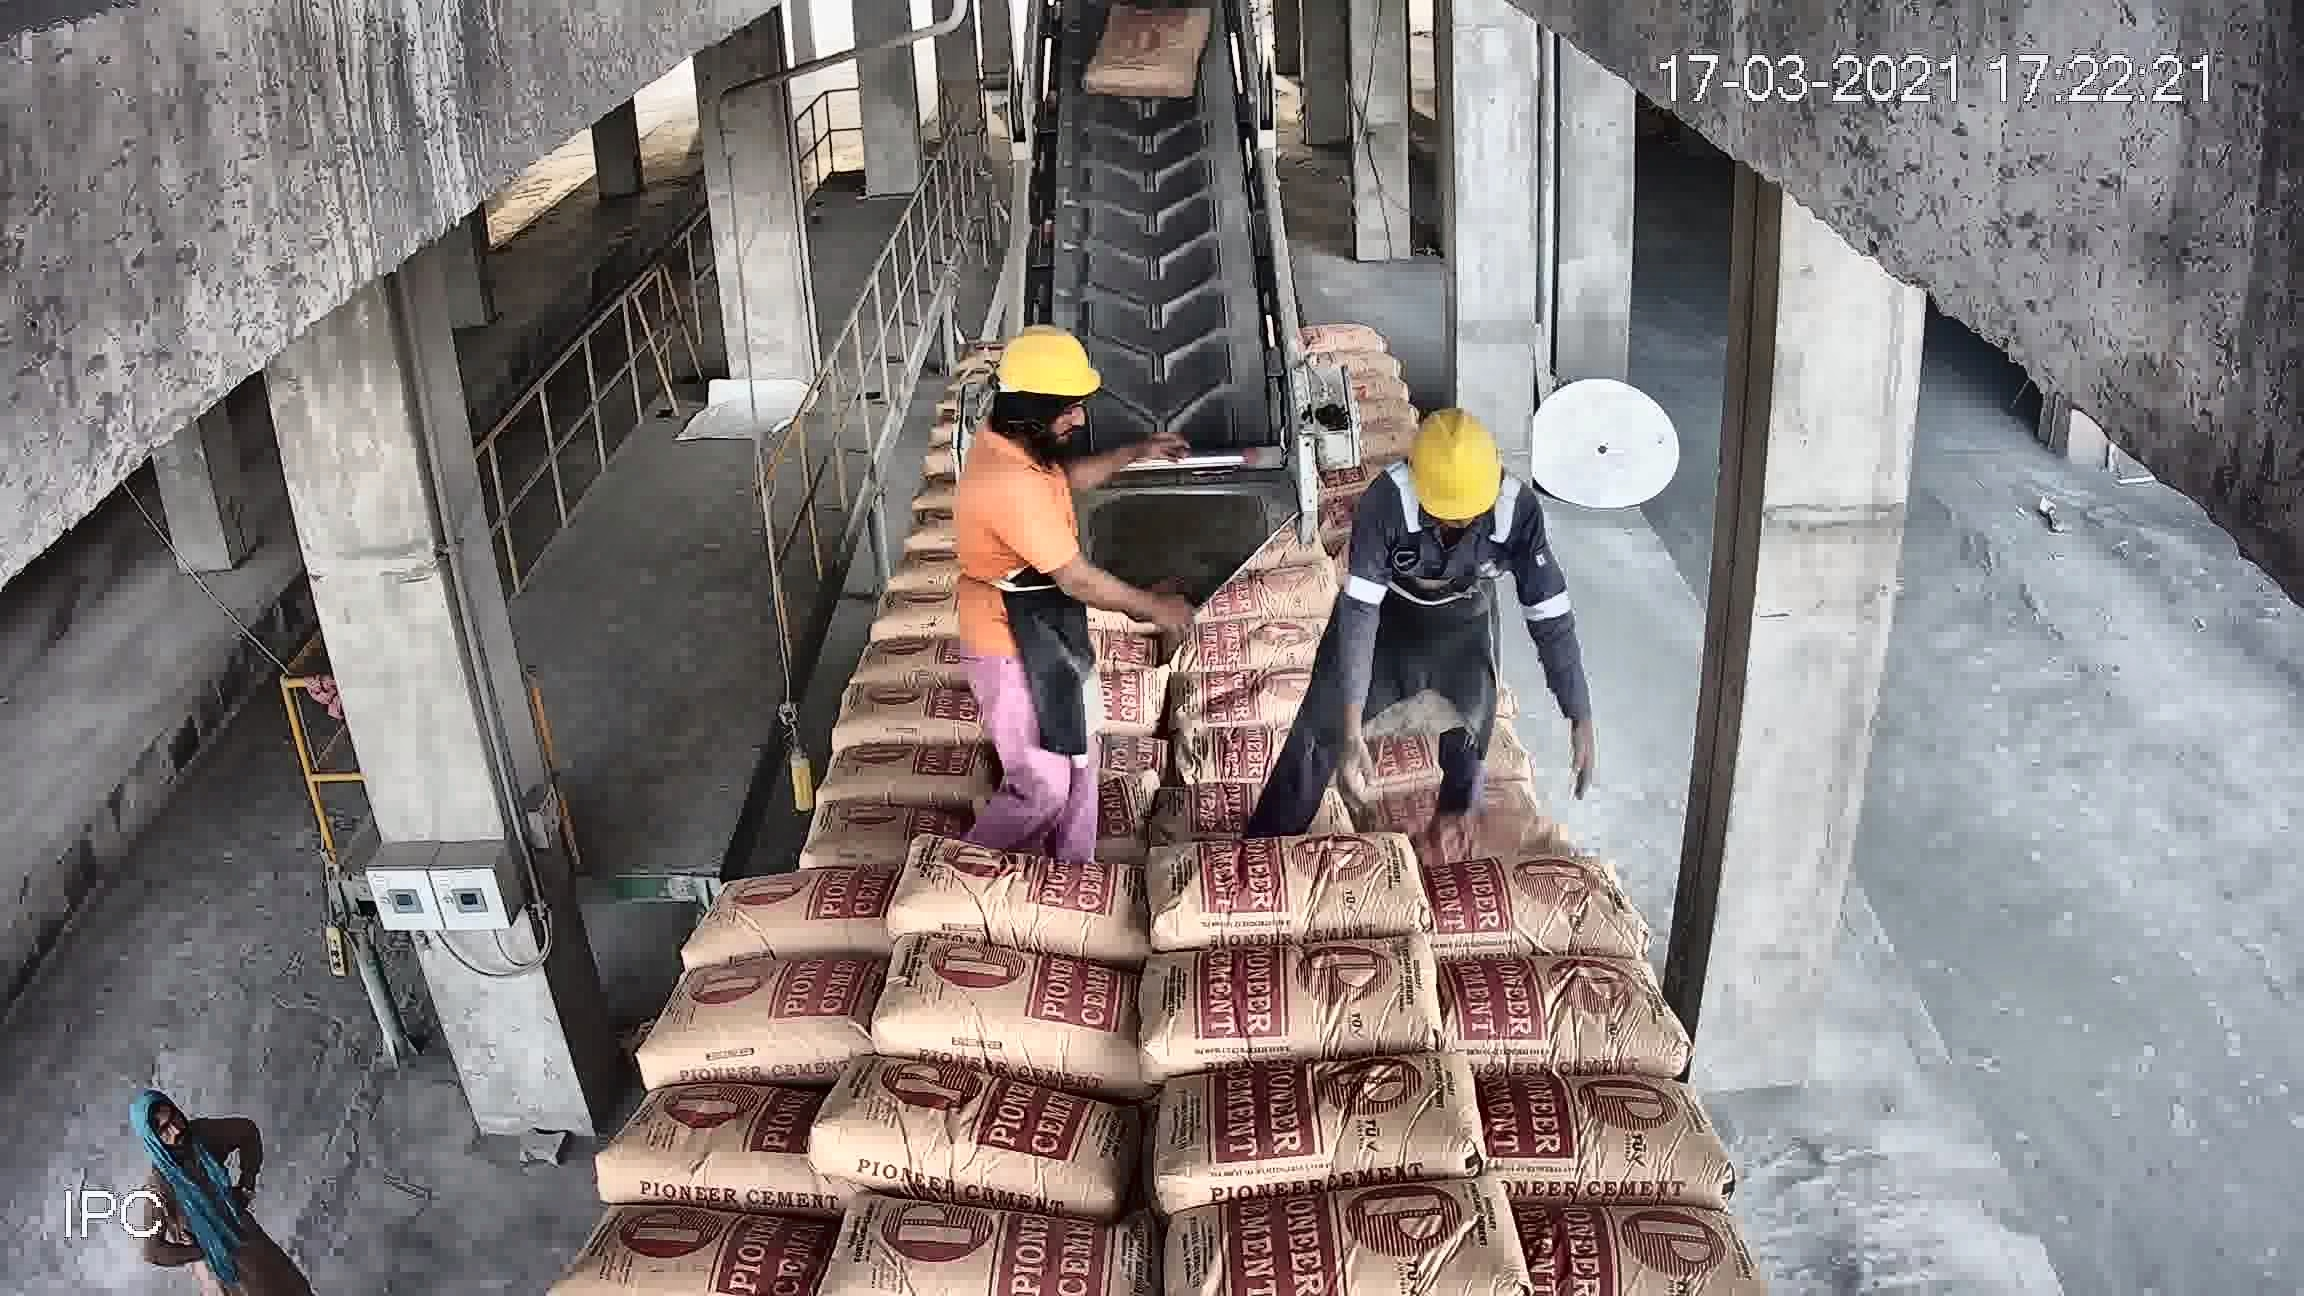bag: (1090, 305, 1230, 460), (1093, 19, 1198, 74)
bag_h: (1158, 1054, 1483, 1214), (1136, 921, 1465, 1063), (1165, 1166, 1513, 1296), (1143, 821, 1426, 953), (780, 1199, 1149, 1291), (1419, 942, 1671, 1074), (1141, 714, 1394, 840), (1489, 1070, 1723, 1206), (877, 946, 1144, 1057), (805, 1097, 1147, 1182), (597, 1082, 821, 1206), (1529, 1176, 1752, 1296), (642, 961, 858, 1084), (907, 847, 1144, 946), (902, 767, 1158, 858), (1130, 658, 1380, 747), (582, 1207, 812, 1291), (714, 775, 907, 872), (1426, 843, 1625, 937), (695, 870, 908, 954), (1374, 673, 1541, 775), (1385, 771, 1593, 850), (752, 703, 924, 790), (934, 692, 1124, 756), (1052, 525, 1166, 589), (1055, 574, 1198, 623), (850, 630, 978, 676), (864, 590, 964, 635), (1065, 631, 1188, 658)
belt: (1040, 35, 1309, 473)
